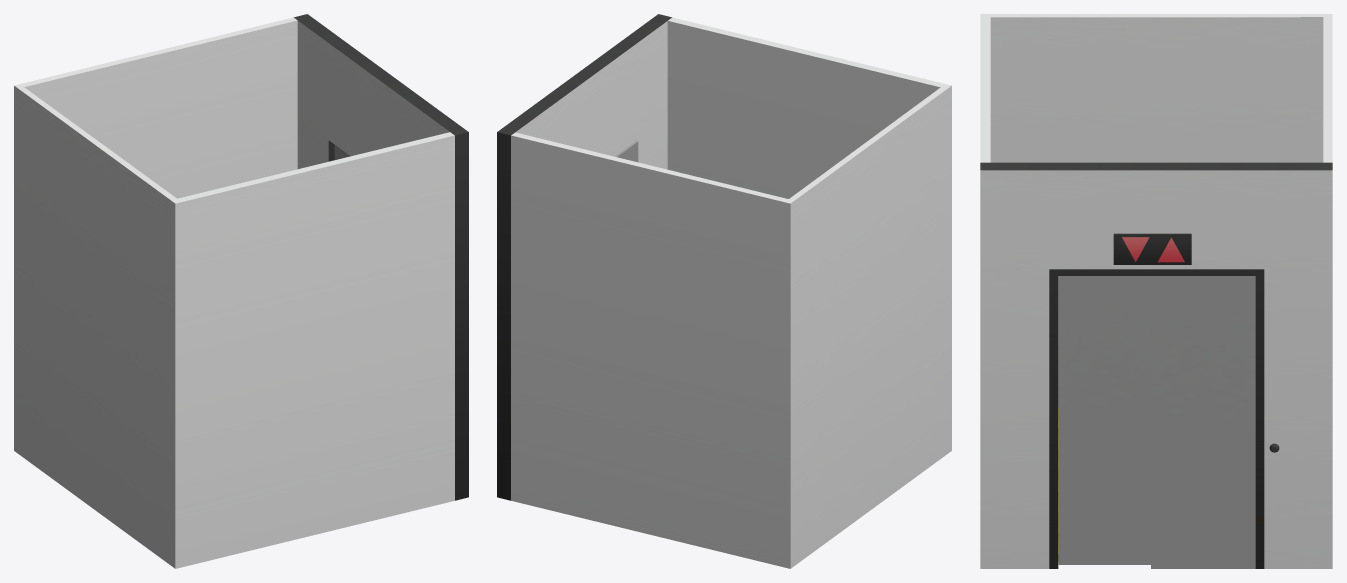
Rendered from Ascensor.fbx.
3 views of the same model, side by side, from view 1: azimuth 30°, elevation 25°; view 2: azimuth 150°, elevation 25°; view 3: azimuth 270°, elevation 25° (orthographic). The views are drawn at different scales.
Parts seen in each view (by area): view 1: Estructura, Marco ascensor; view 2: Estructura, Marco ascensor; view 3: Estructura, Puertas, Marco ascensor, Indicadores.
Boxes of the visible parts, x1,y1,x2,y2 form: Estructura: (14,17,454,568); Marco ascensor: (294,14,468,500); Estructura: (511,17,951,568); Marco ascensor: (497,14,671,500); Estructura: (980,14,1332,568); Puertas: (1058,276,1255,568); Marco ascensor: (980,162,1332,568); Indicadores: (1113,233,1191,264).
Size of the model in its own units: 200 by 250 by 212.
